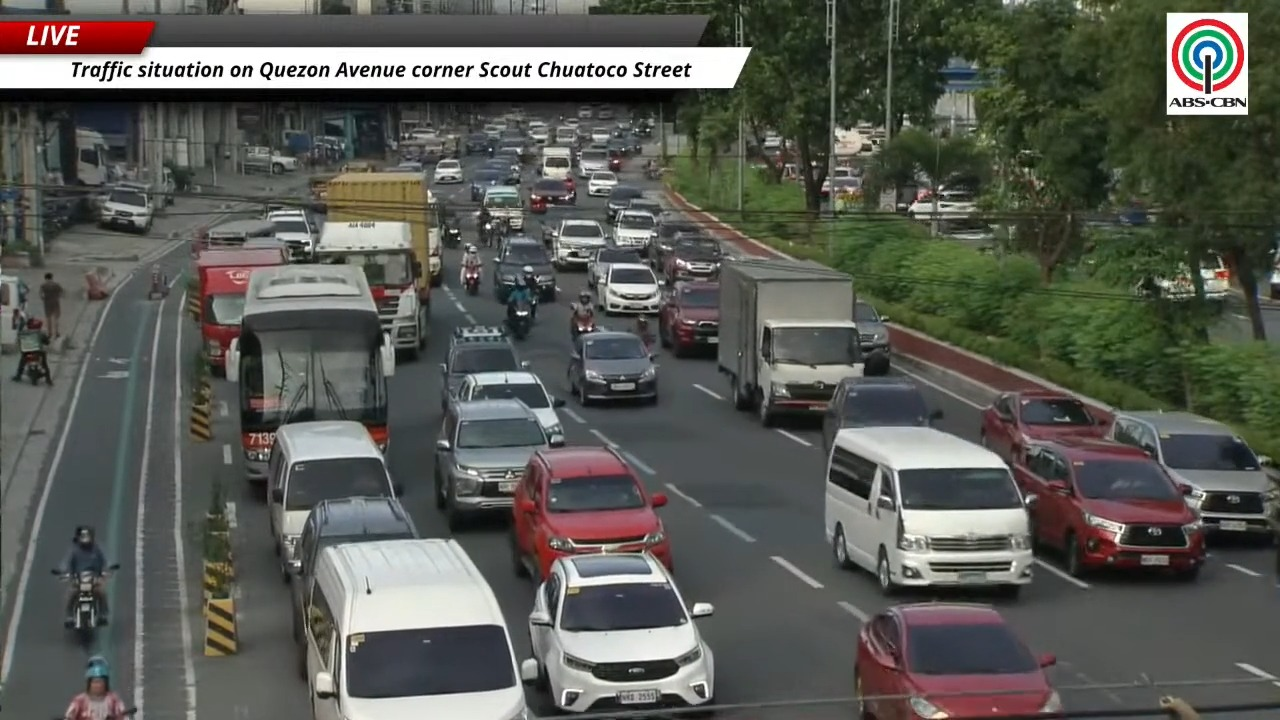bus: (226, 264, 394, 482)
car: (522, 553, 714, 712), (1013, 438, 1205, 579), (854, 602, 1061, 718), (288, 496, 418, 678), (510, 446, 672, 580), (1108, 412, 1275, 537), (433, 399, 563, 531), (822, 376, 942, 453), (980, 389, 1105, 460), (440, 326, 526, 409), (457, 371, 564, 435), (567, 330, 657, 406), (658, 281, 719, 356), (493, 236, 555, 303), (597, 263, 661, 314), (545, 218, 607, 268), (651, 218, 711, 266), (662, 236, 722, 282), (98, 188, 155, 233), (267, 209, 317, 258), (586, 246, 642, 288), (906, 187, 977, 219), (612, 210, 656, 255), (481, 185, 524, 230), (1139, 264, 1194, 299), (854, 300, 890, 353), (938, 217, 995, 247), (606, 185, 642, 222), (530, 178, 575, 205), (469, 169, 504, 201), (493, 145, 521, 183), (480, 158, 519, 185), (577, 148, 609, 179), (495, 137, 531, 164), (819, 174, 860, 197), (626, 196, 663, 220), (587, 171, 617, 196), (607, 139, 630, 171), (433, 160, 463, 183), (464, 132, 492, 154), (387, 161, 425, 174), (529, 125, 549, 144), (482, 123, 504, 140), (590, 126, 611, 143), (561, 117, 579, 130), (577, 107, 593, 119), (596, 109, 614, 119)
motorcycle: (52, 564, 119, 647), (20, 348, 49, 385), (507, 300, 532, 340), (570, 316, 597, 339), (464, 267, 481, 296), (479, 220, 494, 248), (444, 224, 461, 248), (108, 706, 137, 719), (530, 196, 547, 213)
truck: (718, 259, 862, 426), (326, 172, 446, 304), (315, 220, 428, 357), (196, 248, 285, 376), (75, 127, 109, 186), (241, 146, 298, 174)
